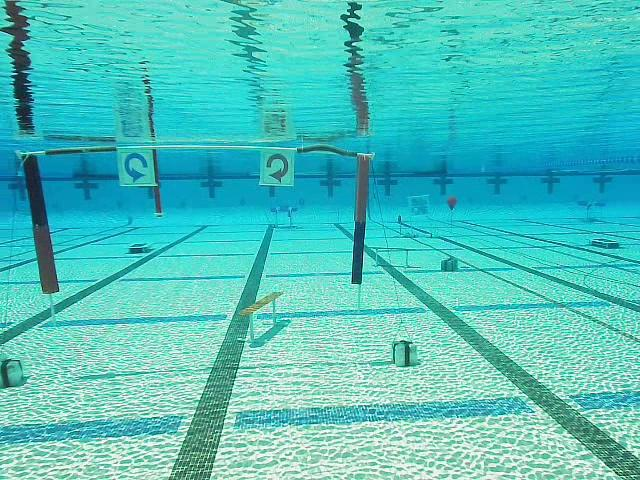buoy: (447, 196, 459, 213)
dropper: (124, 241, 154, 256), (590, 236, 620, 251)
gate: (17, 142, 375, 296)
gate_blue: (117, 146, 158, 187)
gate_leg_l: (19, 149, 64, 295)
gate_leg_r: (350, 151, 374, 285)
gate_red: (256, 148, 298, 188)
table: (270, 206, 297, 230)
torpedo: (408, 196, 429, 216)
